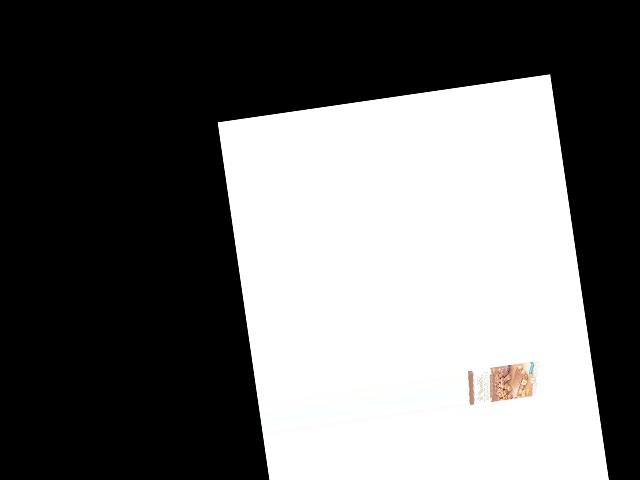chocolate: (467, 359, 540, 410)
